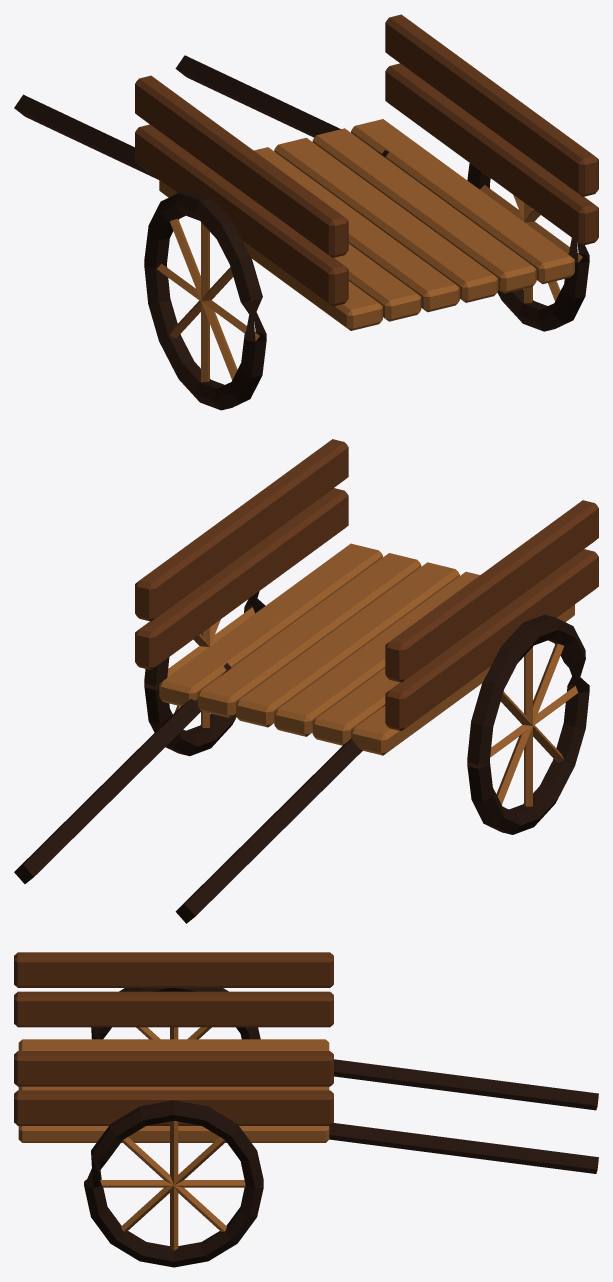
Rendered from Carrinho_de_feira_LOD0.fbx.
3 views of the same model, one above another, from view 1: azimuth 30°, elevation 25°; view 2: azimuth 150°, elevation 25°; view 3: azimuth 270°, elevation 25° (orthographic). The views are drawn at different scales.
Parts seen in each view (by area): view 1: Carrinho_de_feira_LOD0; view 2: Carrinho_de_feira_LOD0; view 3: Carrinho_de_feira_LOD0.
Boxes of the visible parts, x1,y1,x2,y2 form: Carrinho_de_feira_LOD0: (14,14,598,410); Carrinho_de_feira_LOD0: (14,439,598,923); Carrinho_de_feira_LOD0: (14,952,598,1267).
Bounding box in the file's own units: 171 × 116 × 311.
1 material, 1 textured.
